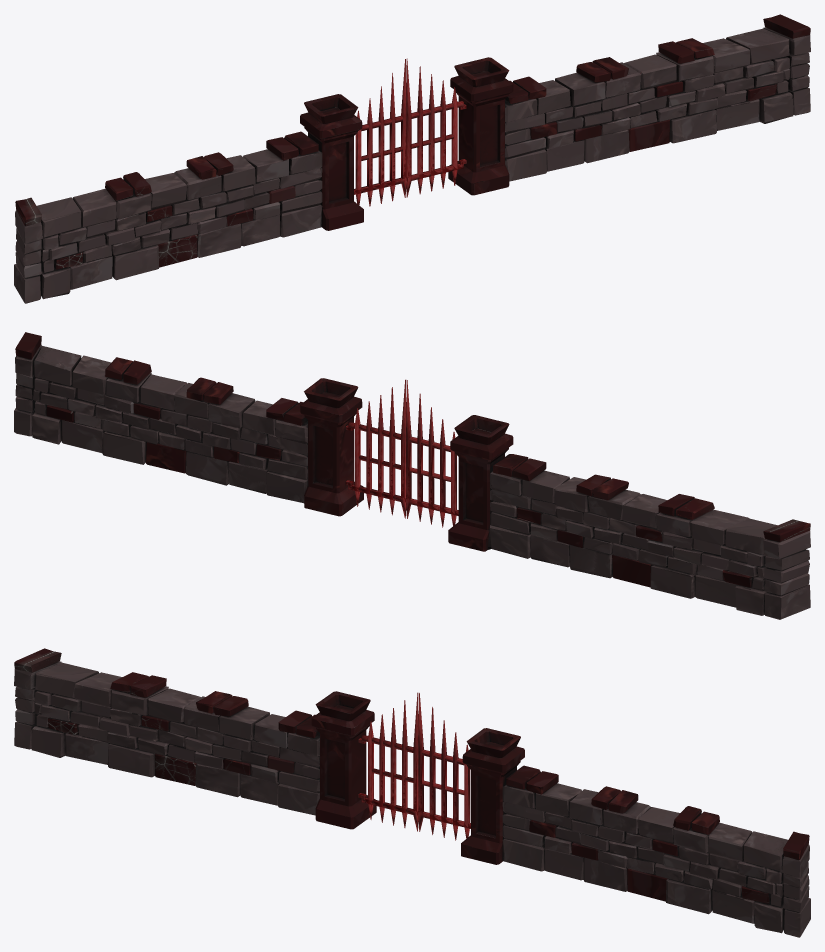
Rendered from gate_normal.fbx.
3 renders of one model, top to bottom at view 1: azimuth 30°, elevation 25°; view 2: azimuth 150°, elevation 25°; view 3: azimuth 330°, elevation 25°, orthographic.
Parts seen in each view (by area): view 1: agate_n, agate_n2, awall_n; view 2: agate_n, agate_n2, awall_n; view 3: agate_n, awall_n, agate_n2.
Boxes of the visible parts, <box> form: agate_n: <box>14,14,810,303</box>; agate_n2: <box>406,58,463,197</box>; awall_n: <box>354,59,406,206</box>; agate_n: <box>14,332,810,619</box>; agate_n2: <box>348,379,406,518</box>; awall_n: <box>406,380,458,527</box>; agate_n: <box>14,648,810,937</box>; awall_n: <box>361,692,418,831</box>; agate_n2: <box>418,693,470,840</box>.
Size of the model in its own units: 5585 by 967 by 305.
Materials: 2 (2 with a texture image).
